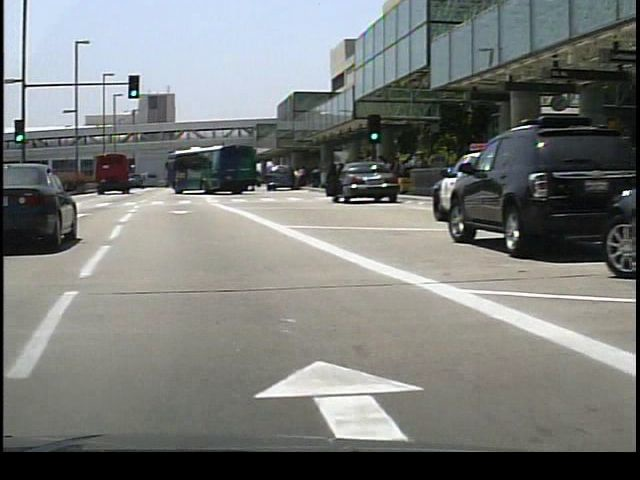person: (287, 166, 298, 190)
